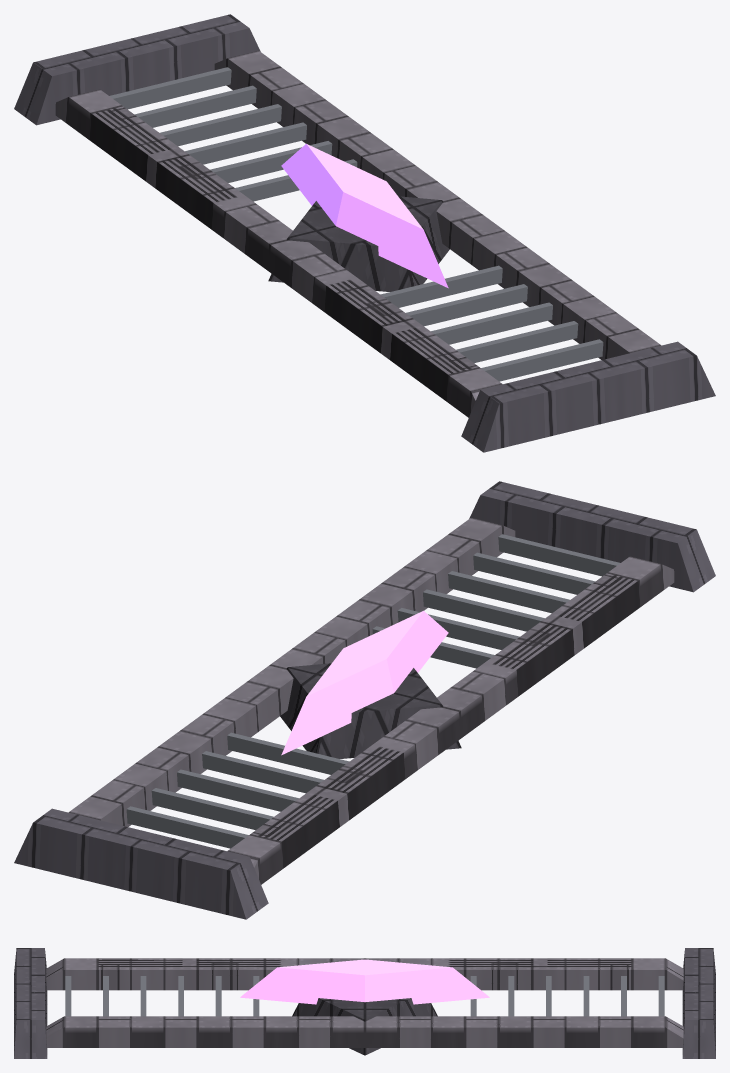
The model's file is loom_iris.glb.
3 renders of one model, top to bottom at view 1: azimuth 30°, elevation 25°; view 2: azimuth 150°, elevation 25°; view 3: azimuth 270°, elevation 25°, orthographic. The views are drawn at different scales.
Size of the model in its own units: 24 by 7 by 84.
6 materials, 4 textured.
